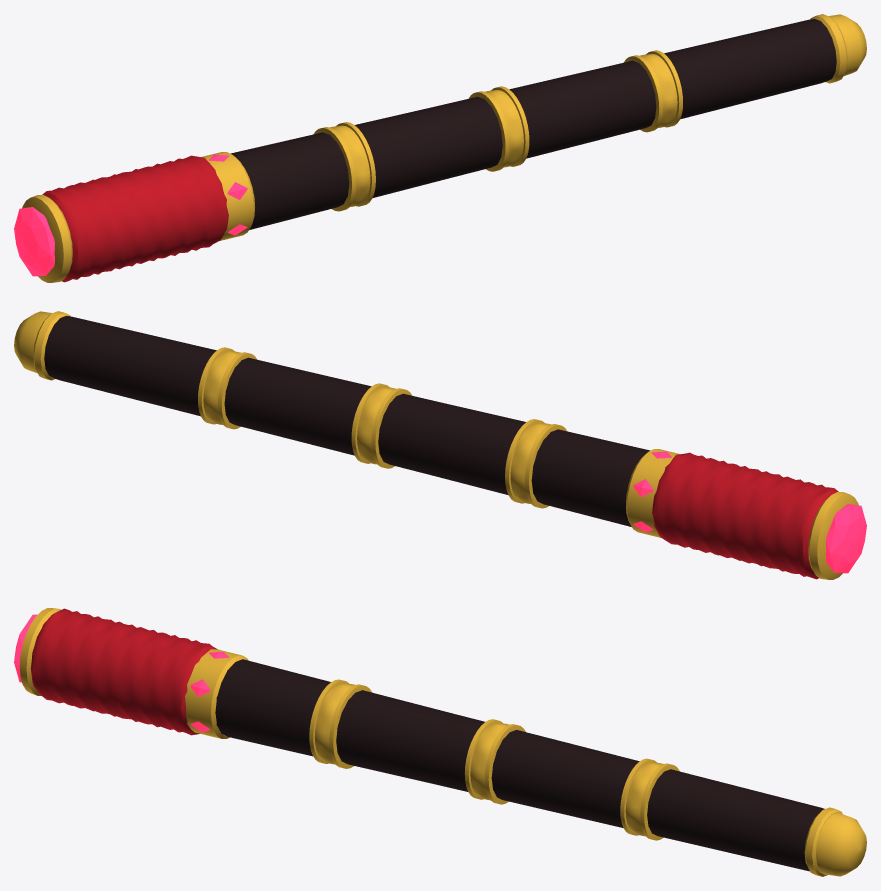
File: danda-champion.glb
3 renders of one model, top to bottom at view 1: azimuth 30°, elevation 25°; view 2: azimuth 150°, elevation 25°; view 3: azimuth 330°, elevation 25°, orthographic.
Parts seen in each view (by area): view 1: DandaChampion_Lacquer, DandaChampion_Grip, DandaChampion_Gold, DandaChampion_Jewel; view 2: DandaChampion_Lacquer, DandaChampion_Grip, DandaChampion_Gold, DandaChampion_Jewel; view 3: DandaChampion_Lacquer, DandaChampion_Grip, DandaChampion_Gold, DandaChampion_Jewel.
Part boxes in pixels (x1,y1,x2,y2): DandaChampion_Lacquer: [230, 19, 836, 229]; DandaChampion_Grip: [42, 155, 228, 282]; DandaChampion_Gold: [22, 14, 866, 282]; DandaChampion_Jewel: [14, 154, 247, 276]; DandaChampion_Lacquer: [44, 316, 650, 526]; DandaChampion_Grip: [652, 452, 838, 579]; DandaChampion_Gold: [14, 311, 858, 579]; DandaChampion_Jewel: [633, 451, 866, 573]; DandaChampion_Lacquer: [215, 659, 824, 871]; DandaChampion_Grip: [30, 608, 217, 735]; DandaChampion_Gold: [19, 608, 866, 876]; DandaChampion_Jewel: [14, 614, 228, 732].
Bounding box in the file's own units: 4.6 × 0.45 × 0.45.
